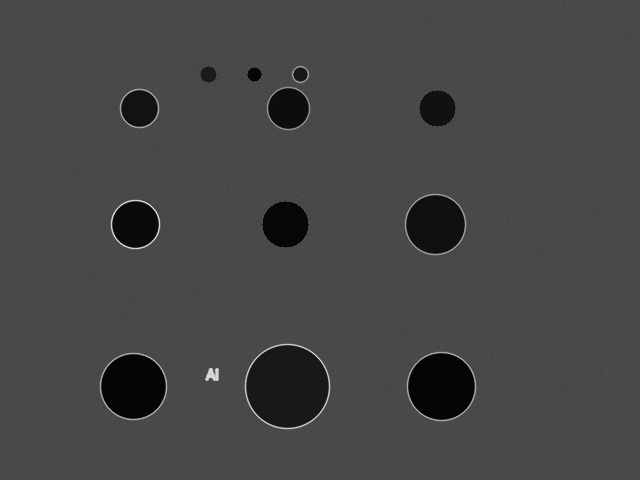hole: (245, 344, 329, 428), (407, 352, 475, 420), (100, 353, 166, 419), (405, 194, 465, 254), (111, 200, 159, 248), (262, 201, 308, 247), (267, 87, 309, 129), (120, 89, 158, 127), (419, 90, 455, 126), (200, 66, 216, 82), (292, 66, 308, 82), (247, 67, 261, 81)
